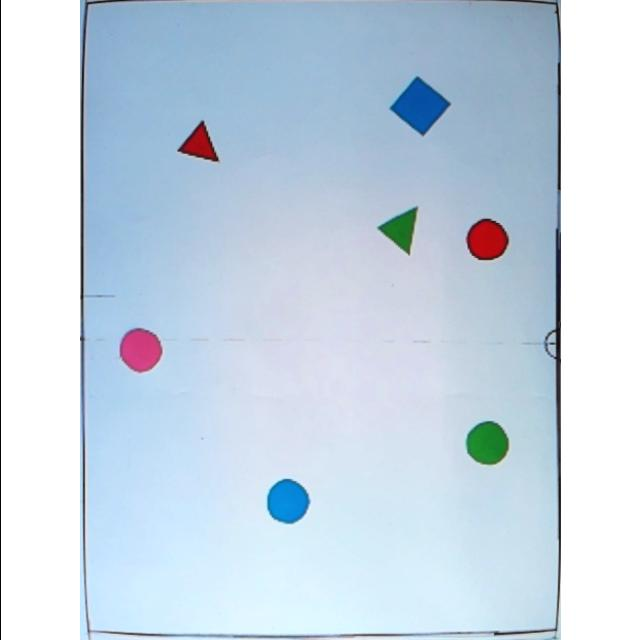blueCircle: (266, 479, 312, 525)
blueSquare: (390, 77, 452, 136)
greenCircle: (466, 422, 512, 466)
greenTriangle: (376, 205, 422, 257)
pinkCircle: (119, 328, 163, 372)
redCircle: (466, 219, 512, 261)
redTriangle: (178, 122, 220, 164)
